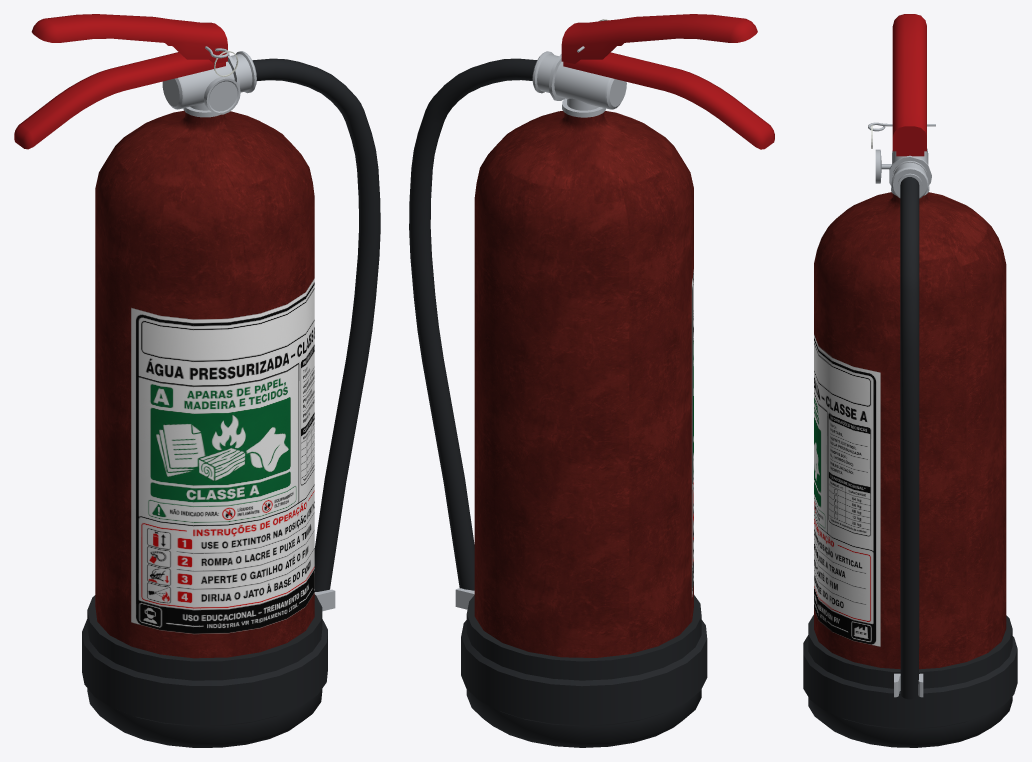
File: Extintor.fbx
3 renders of one model, left to right at view 1: azimuth 30°, elevation 25°; view 2: azimuth 150°, elevation 25°; view 3: azimuth 270°, elevation 25°, orthographic. The views are drawn at different scales.
Visible parts, largest first — view 1: Corpo, Base, Mangueira, Gatilho, Alavanca, Valvula, Manometro; view 2: Corpo, Base, Mangueira, Gatilho, Alavanca, Valvula; view 3: Corpo, Base, Mangueira, Gatilho, Valvula.
Boxes of the visible parts, x1=… form: Corpo: x1=95, y1=111, x2=314, y2=658; Base: x1=82, y1=594, x2=327, y2=747; Mangueira: x1=252, y1=58, x2=380, y2=591; Gatilho: x1=31, y1=14, x2=227, y2=63; Alavanca: x1=14, y1=52, x2=225, y2=149; Valvula: x1=162, y1=51, x2=256, y2=109; Manometro: x1=204, y1=76, x2=240, y2=114; Corpo: x1=474, y1=111, x2=693, y2=657; Base: x1=461, y1=595, x2=707, y2=747; Mangueira: x1=409, y1=58, x2=536, y2=590; Gatilho: x1=561, y1=14, x2=757, y2=63; Alavanca: x1=563, y1=52, x2=774, y2=149; Valvula: x1=532, y1=51, x2=626, y2=109; Corpo: x1=814, y1=192, x2=1006, y2=669; Base: x1=803, y1=615, x2=1017, y2=747; Mangueira: x1=900, y1=177, x2=919, y2=699; Gatilho: x1=892, y1=14, x2=926, y2=151; Valvula: x1=889, y1=148, x2=931, y2=198.
Bounding box in the file's own units: 227 × 437 × 135.
